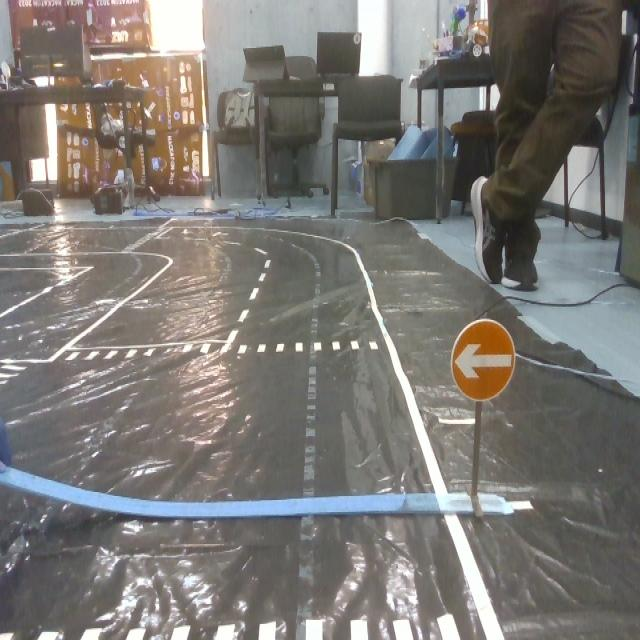forward: (449, 315, 518, 402)
